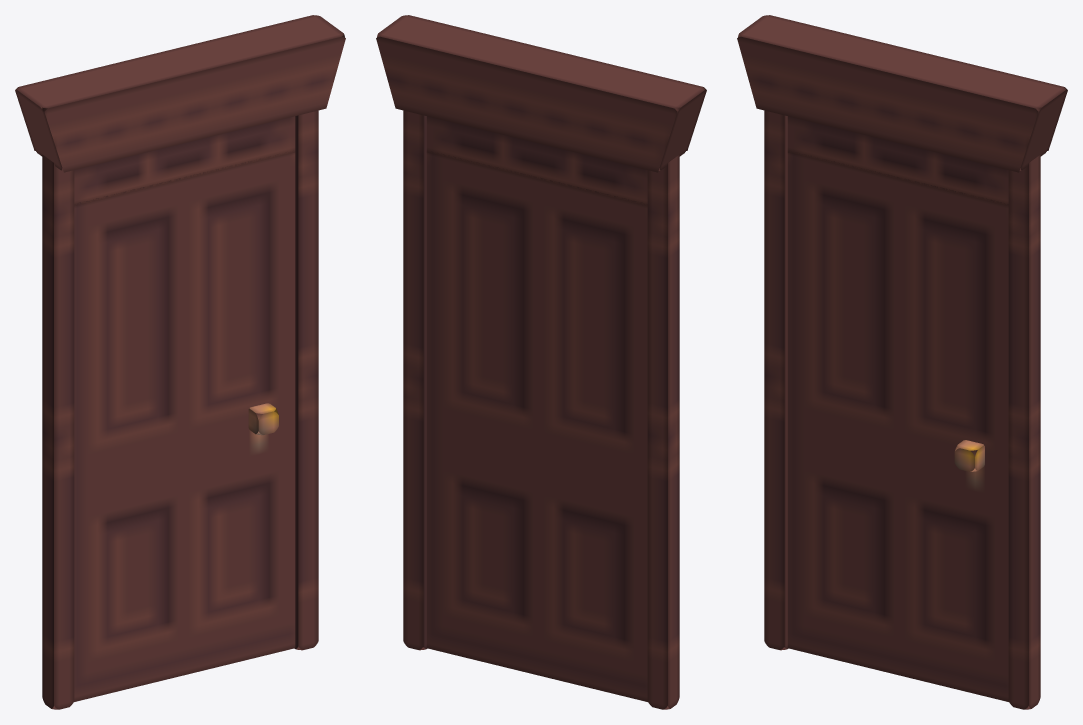
File: door.obj
3 views of the same model, side by side, from view 1: azimuth 30°, elevation 25°; view 2: azimuth 150°, elevation 25°; view 3: azimuth 330°, elevation 25° (orthographic).
Visible parts, largest first — view 1: cuboid, cube; view 2: cuboid; view 3: cuboid, cube.
Part boxes in pixels (box(x1,y1,x2,y2)): cuboid: box(15, 15, 345, 709); cube: box(248, 403, 278, 435); cuboid: box(376, 15, 706, 709); cuboid: box(737, 15, 1067, 709); cube: box(954, 440, 984, 471).
Size of the model in its own units: 1.86 by 3.6 by 0.3125.
1 material, 1 textured.
